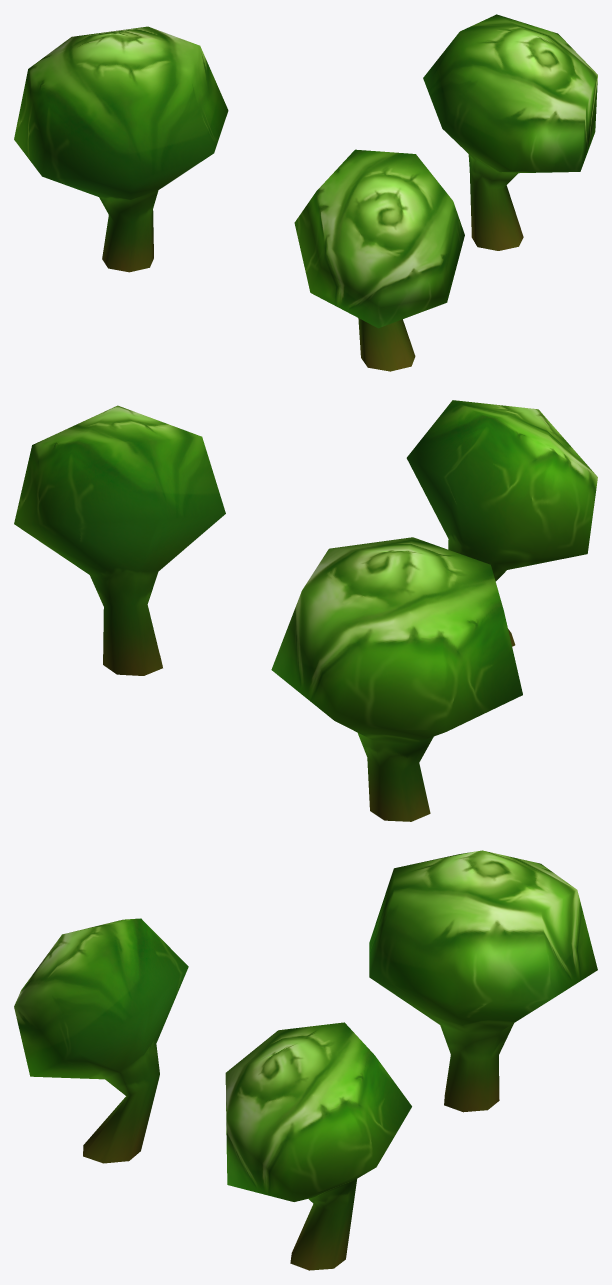
File: cabbage_stage1.FBX
3 renders of one model, top to bottom at view 1: azimuth 30°, elevation 25°; view 2: azimuth 150°, elevation 25°; view 3: azimuth 270°, elevation 25°, orthographic. The views are drawn at different scales.
Parts seen in each view (by area): view 1: cabbage_stage1; view 2: cabbage_stage1; view 3: cabbage_stage1.
Part boxes in pixels (left/top/right/bottom): cabbage_stage1: left=14, top=14, right=597, bottom=371; cabbage_stage1: left=14, top=400, right=597, bottom=821; cabbage_stage1: left=14, top=850, right=597, bottom=1270.
Bounding box in the file's own units: 3.42 × 1.53 × 3.31.
1 material, 1 textured.
